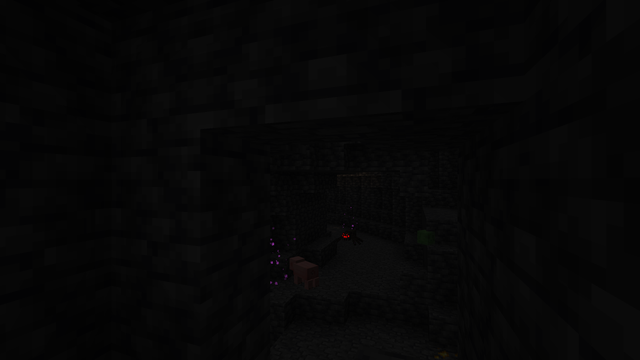araignees: (336, 228, 359, 245)
cochons: (291, 259, 317, 288)
slimes: (419, 229, 433, 245)
